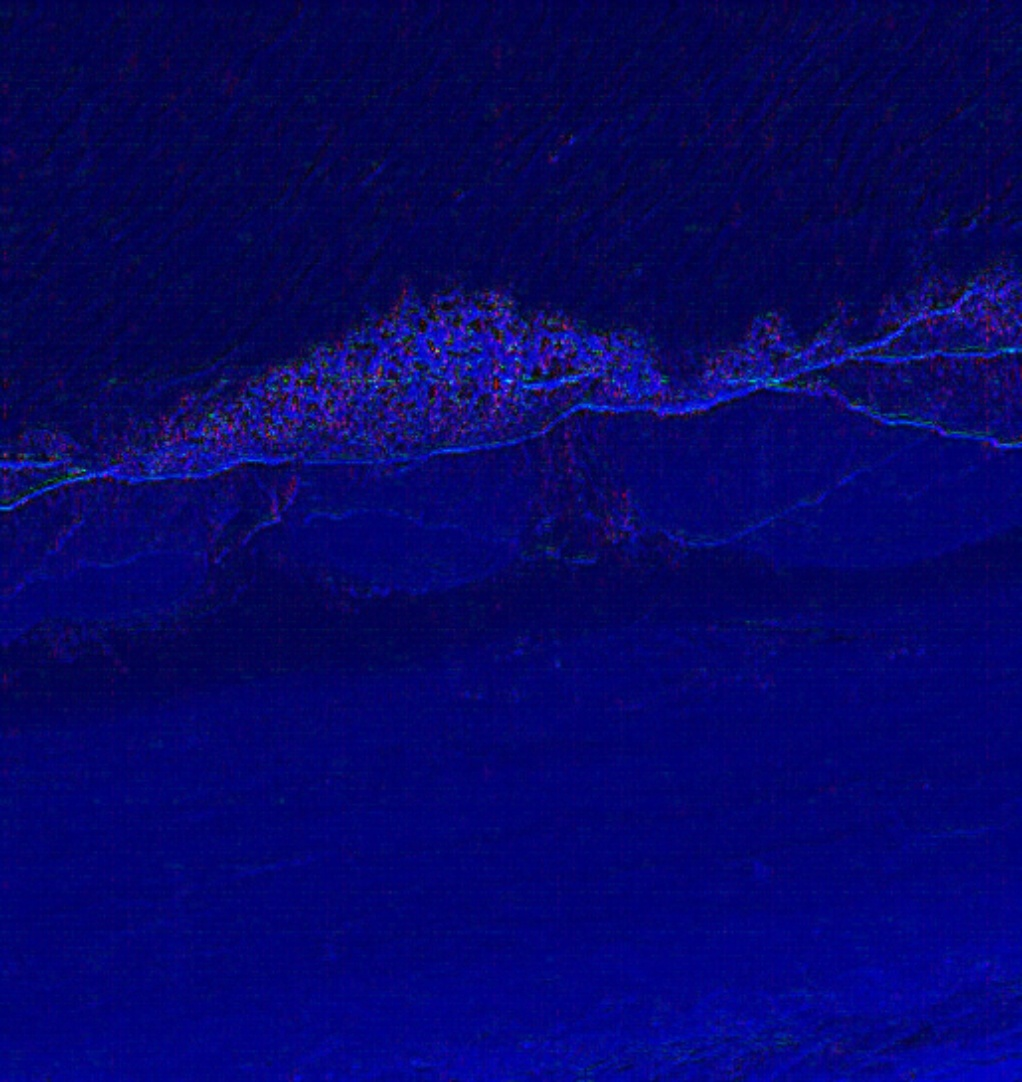rip_current: (489, 260, 627, 508)
